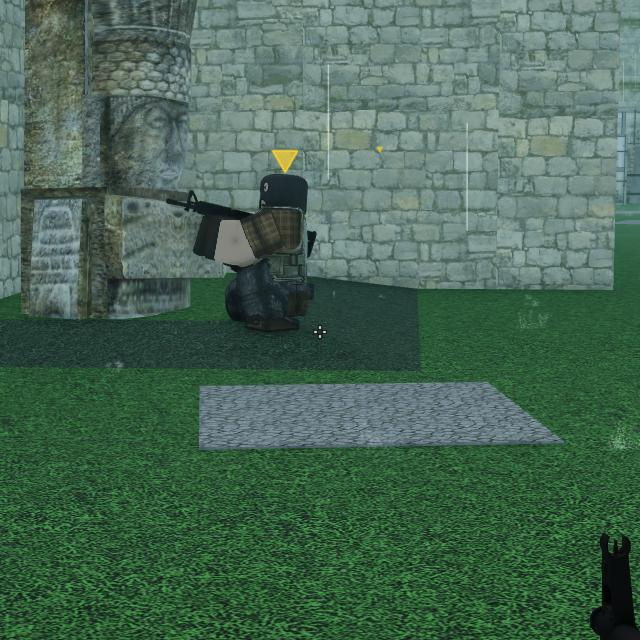Head: (258, 175, 308, 212)
Player: (193, 172, 311, 332)
